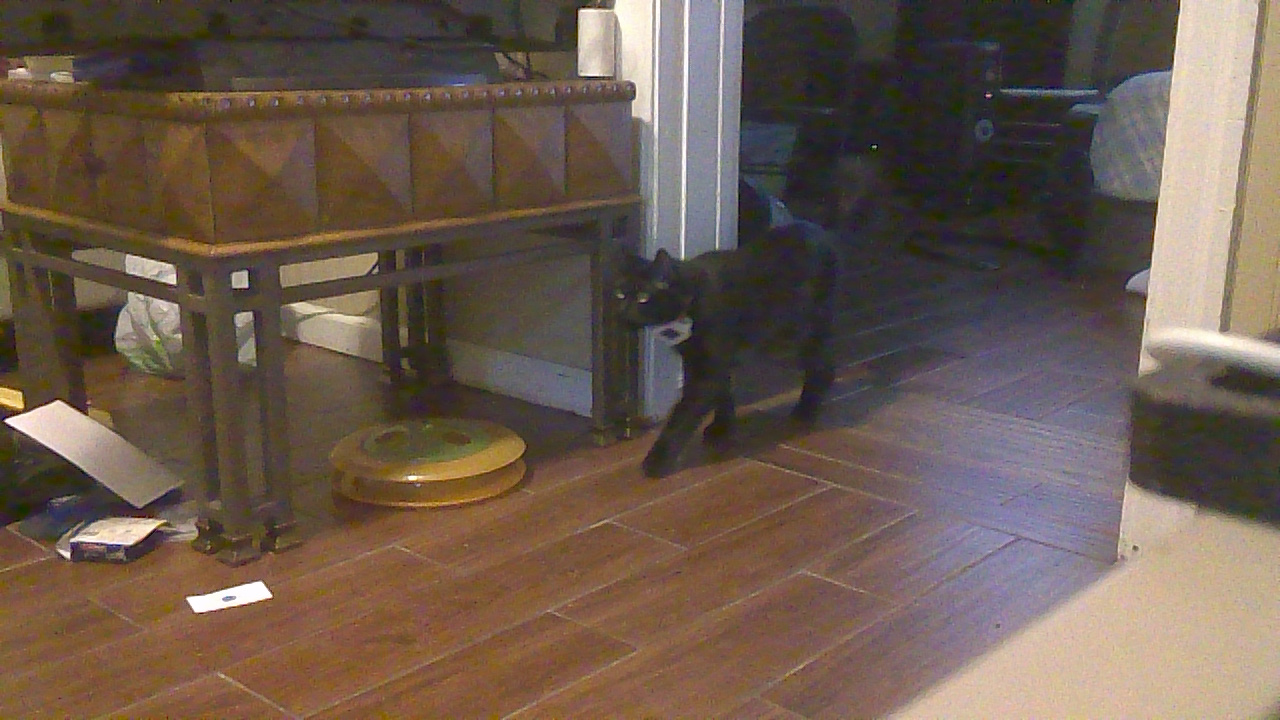cat: (599, 152, 877, 480)
